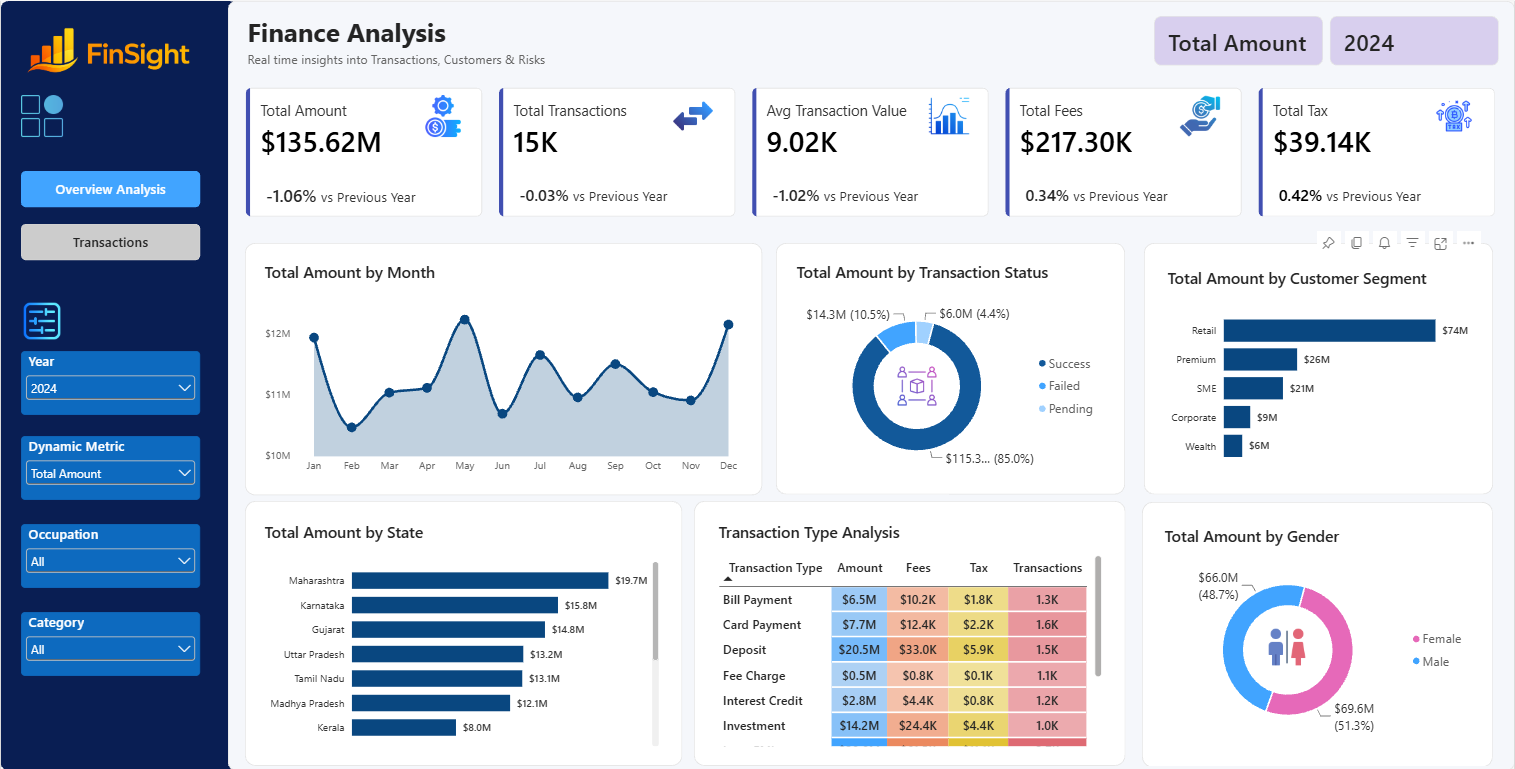

Layout of this report page (visuals, bound fields, positions):
{"tool":"powerbi","page":{"name":"Overview Analysis","canvas":[1800,950],"ordinal":0},"visuals":[{"type":"shape","box":[0,0,280.2,915.8],"z":0},{"type":"shape","box":[270.5,0,1530,916],"z":1000},{"type":"image","box":[24.3,17,213.5,84.9],"z":2000},{"type":"cardVisual","fields":{"Data":["finance_transactions.Dashboard Title"]},"box":[276.5,8.5,394.2,78.8],"z":3000},{"type":"cardVisual","fields":{"Data":["finance_transactions.Total Amount","finance_transactions.Total Transactions","finance_transactions.Avg Transaction Value","finance_transactions.Total Fees","finance_transactions.Total Tax"]},"box":[289.9,101.9,1491.9,155],"z":4000},{"type":"slicer","fields":{"Values":["Calendar Table.Year"]},"box":[24.3,416.3,213.5,76.4],"z":5000},{"type":"image","box":[500.9,111.6,50,50],"z":6000},{"type":"image","box":[798.1,111.6,50,50],"z":7000},{"type":"image","box":[1400.9,111.6,50,50],"z":8000},{"type":"image","box":[1102.6,111.6,50,50],"z":9000},{"type":"image","box":[1703,111.6,50,50],"z":10000},{"type":"slicer","fields":{"Values":["Dynamic Metric.Dynamic Metric"]},"box":[24.3,517,213.5,76],"z":11000},{"type":"shape","box":[289.9,287.5,615,300],"z":12000},{"type":"areaChart","fields":{"Category":["Calendar Table.Month"],"Y":["finance_transactions.Total Amount"]},"box":[297.2,294.7,601.6,286.3],"z":13000},{"type":"cardVisual","fields":{"Data":["finance_transactions.Selected Dynamic Metric","finance_transactions.Selected Year"]},"box":[1370.6,18.2,411.2,59.4],"z":14000},{"type":"shape","box":[921.8,287.5,415,299],"z":15000},{"type":"donutChart","fields":{"Category":["finance_transactions.transaction_status"],"Y":["finance_transactions.Total Amount"]},"box":[930.3,294.7,394.2,286.3],"z":16000},{"type":"shape","box":[1358.5,287.5,415,299],"z":17000},{"type":"barChart","fields":{"Category":["customers.customer_segment"],"Y":["finance_transactions.Total Amount"]},"box":[1370.6,302,390.6,270.5],"z":18000},{"type":"shape","box":[289.9,594.3,520,315],"z":19000},{"type":"barChart","fields":{"Category":["customers.state"],"Y":["finance_transactions.Total Amount"]},"box":[297.2,604,500.9,298.4],"z":20000},{"type":"shape","box":[823.6,594.3,513.1,315],"z":21000},{"type":"tableEx","title":"Transaction Type Analysis","fields":{"Values":["finance_transactions.transaction_type","finance_transactions.Total Amount","finance_transactions.Total Fees","finance_transactions.Total Tax","finance_transactions.Total Transactions"]},"box":[836.9,604,487.6,298.4],"z":22000},{"type":"shape","box":[1356.1,595.6,417.3,315.4],"z":23000},{"type":"donutChart","fields":{"Category":["customers.gender"],"Y":["finance_transactions.Total Amount"]},"box":[1367,608.9,394.2,286.3],"z":24000},{"type":"image","box":[1063.7,433,50,50],"z":25000},{"type":"image","box":[1504,743.5,50,50],"z":26000},{"type":"slicer","fields":{"Values":["customers.occupation"]},"box":[24.3,621.3,213,76.4],"z":27000},{"type":"slicer","fields":{"Values":["finance_transactions.merchant_category"]},"box":[24.3,726.8,213,76.4],"z":28000},{"type":"pageNavigator","box":[24.3,202.6,213.5,108],"z":29000},{"type":"image","box":[24.3,111.9,50,50],"z":30000},{"type":"image","box":[24.3,355.3,49.9,49.9],"z":31000}]}

Visuals, with their boxes on the page's 1800x950 design canvas (x1, y1, x2, y2). These are canvas units, not pixel positions in the 1515x769 screenshot, which may show the page scaled, cropped or inside an application window:
shape: detection(0, 0, 280, 916)
shape: detection(270, 0, 1800, 916)
image: detection(24, 17, 238, 102)
cardVisual - finance_transactions.Dashboard Title: detection(276, 8, 671, 87)
cardVisual - finance_transactions.Total Amount x finance_transactions.Total Transactions: detection(290, 102, 1782, 257)
slicer - Calendar Table.Year: detection(24, 416, 238, 493)
image: detection(501, 112, 551, 162)
image: detection(798, 112, 848, 162)
image: detection(1401, 112, 1451, 162)
image: detection(1103, 112, 1153, 162)
image: detection(1703, 112, 1753, 162)
slicer - Dynamic Metric.Dynamic Metric: detection(24, 517, 238, 593)
shape: detection(290, 288, 905, 588)
areaChart - Calendar Table.Month x finance_transactions.Total Amount: detection(297, 295, 899, 581)
cardVisual - finance_transactions.Selected Dynamic Metric x finance_transactions.Selected Year: detection(1371, 18, 1782, 78)
shape: detection(922, 288, 1337, 586)
donutChart - finance_transactions.transaction_status x finance_transactions.Total Amount: detection(930, 295, 1324, 581)
shape: detection(1358, 288, 1774, 586)
barChart - customers.customer_segment x finance_transactions.Total Amount: detection(1371, 302, 1761, 572)
shape: detection(290, 594, 810, 909)
barChart - customers.state x finance_transactions.Total Amount: detection(297, 604, 798, 902)
shape: detection(824, 594, 1337, 909)
"Transaction Type Analysis" tableEx: detection(837, 604, 1324, 902)
shape: detection(1356, 596, 1773, 911)
donutChart - customers.gender x finance_transactions.Total Amount: detection(1367, 609, 1761, 895)
image: detection(1064, 433, 1114, 483)
image: detection(1504, 744, 1554, 794)
slicer - customers.occupation: detection(24, 621, 237, 698)
slicer - finance_transactions.merchant_category: detection(24, 727, 237, 803)
pageNavigator: detection(24, 203, 238, 311)
image: detection(24, 112, 74, 162)
image: detection(24, 355, 74, 405)
